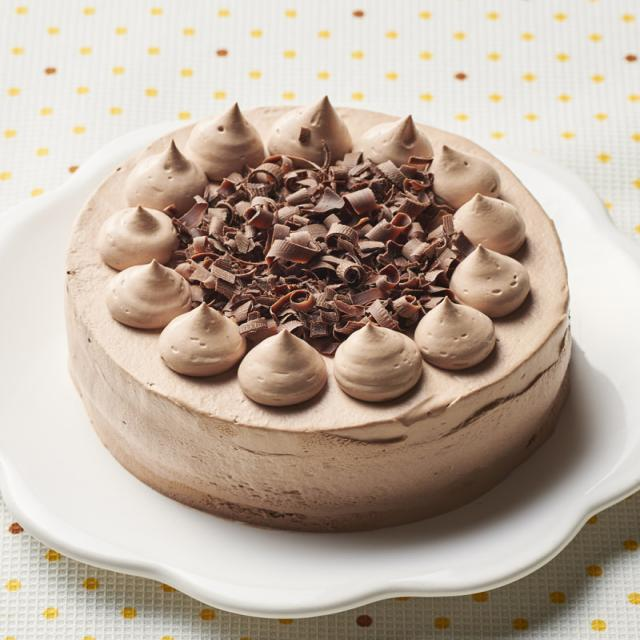chocolatecake: (64, 96, 574, 532)
